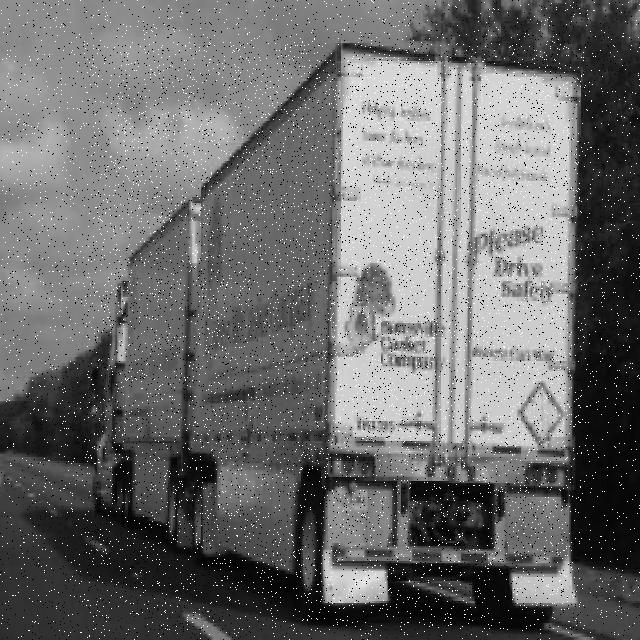Tractor Trailer: (87, 43, 582, 630)
